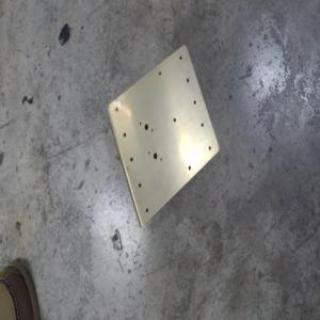MetalSheettrack_idkeyframe: (103, 41, 220, 232)
